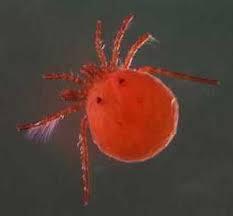Insects: (13, 10, 224, 212)
